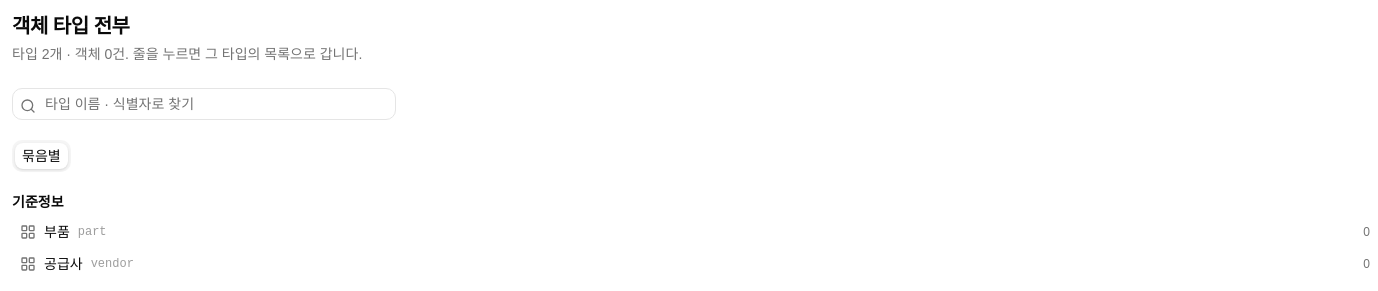
객체 타입 전부 › 찾기는 식별자로도 걸린다
Expected: the text "공급사" is shown, x1=44 y1=254 x2=83 y2=274
Type "vend" into the field named "타입 찾기". click: (204, 104)
box: x1=12 y1=88 x2=396 y2=120
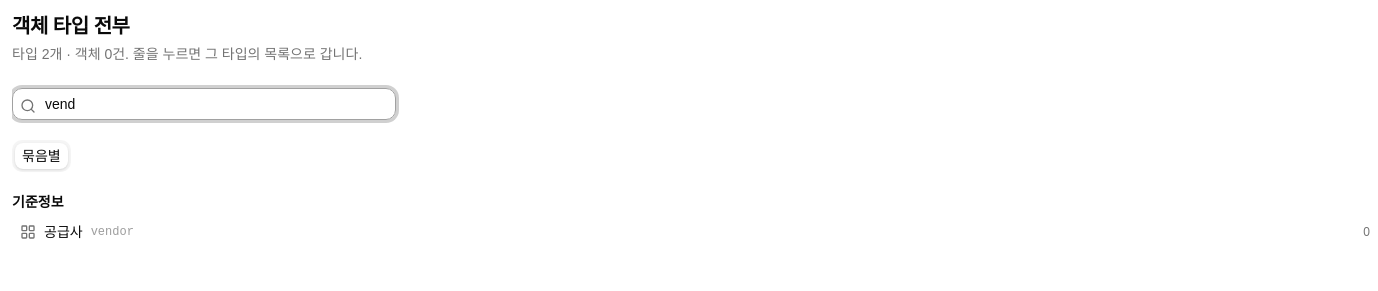
Expected: the text "공급사" is shown, x1=44 y1=222 x2=83 y2=242
Now the link "부품" is gone
